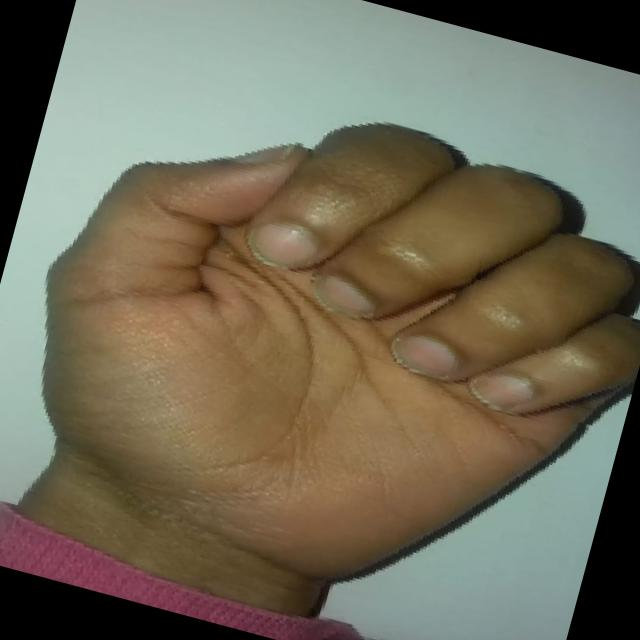Nail: (246, 222, 317, 269), (313, 273, 376, 319), (394, 334, 458, 379), (468, 370, 534, 410), (230, 143, 295, 168)
